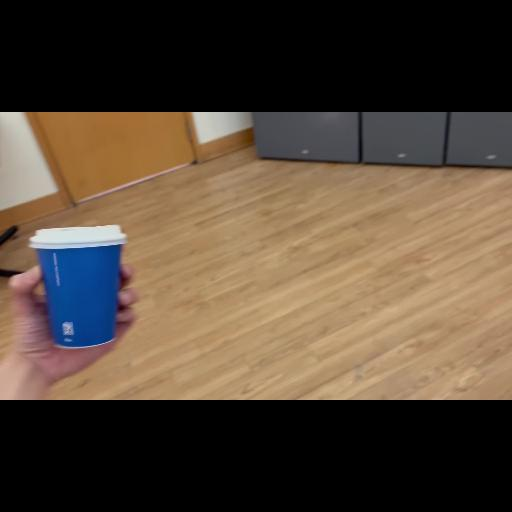lp_paper_cup: (28, 224, 128, 350)
